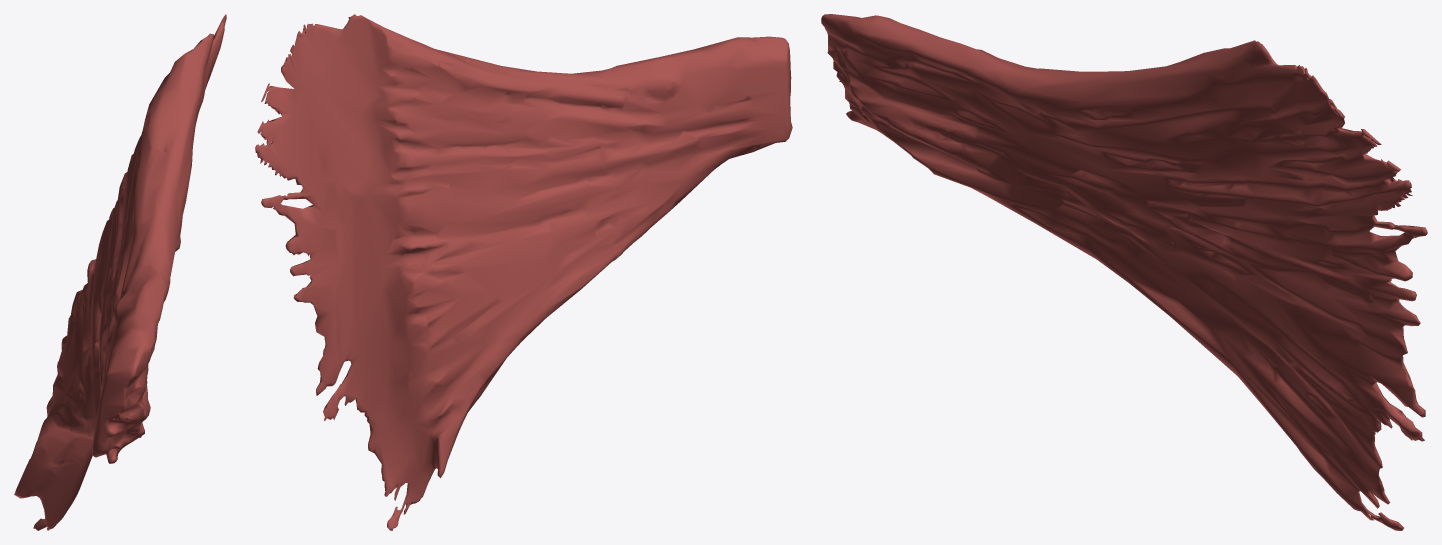
The model's file is FMA46840.glb.
3 renders of one model, left to right at view 1: azimuth 30°, elevation 25°; view 2: azimuth 150°, elevation 25°; view 3: azimuth 270°, elevation 25°, orthographic. The views are drawn at different scales.
Visible parts, largest first — view 1: FMA46840; view 2: FMA46840; view 3: FMA46840.
Part boxes in pixels (x1,y1,x2,y2): FMA46840: [14, 14, 226, 530]; FMA46840: [255, 14, 792, 530]; FMA46840: [821, 14, 1427, 530].
Size of the model in its own units: 0.0191 by 0.0263 by 0.0266.
